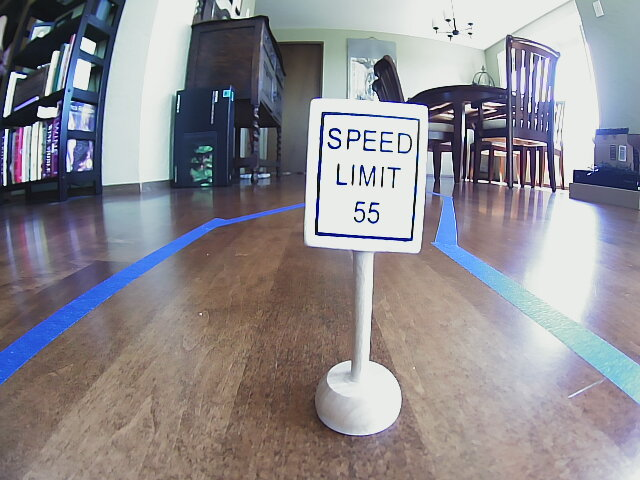SpeedLimit55: (308, 99, 420, 249)
